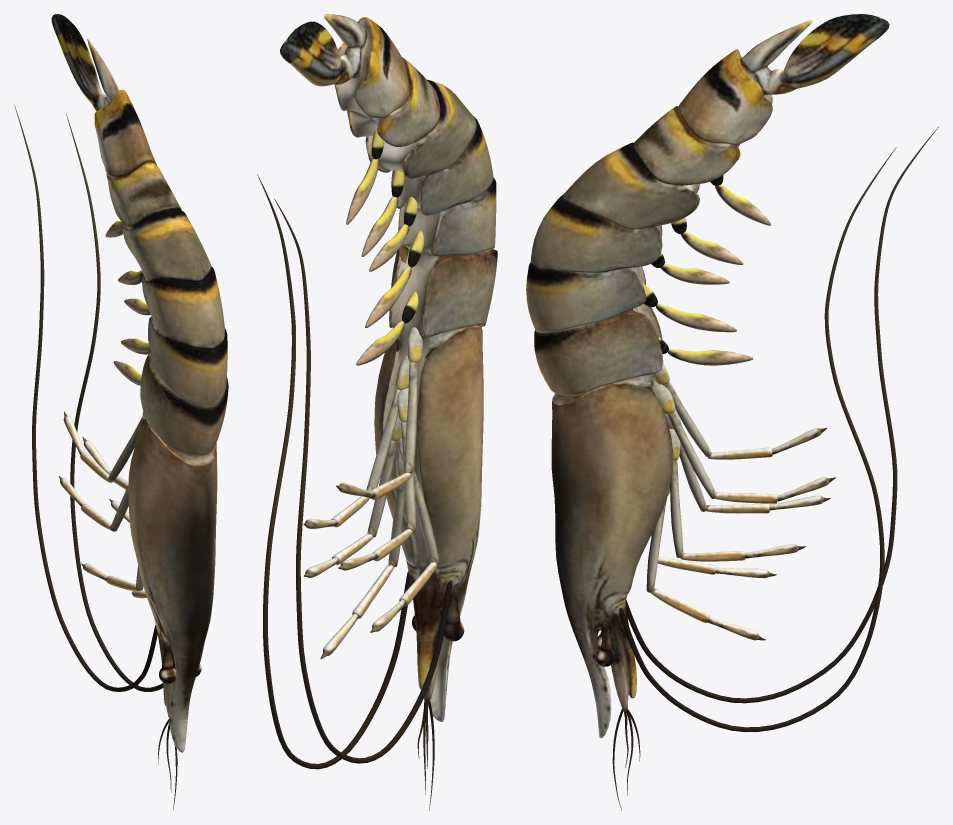
Rendered from shrimp.glb.
3 views of the same model, side by side, from view 1: azimuth 30°, elevation 25°; view 2: azimuth 150°, elevation 25°; view 3: azimuth 270°, elevation 25° (orthographic). The views are drawn at different scales.
Visible parts, largest first — view 1: shrimp; view 2: shrimp; view 3: shrimp.
Boxes of the visible parts, left/top/right/bottom form: shrimp: left=14, top=14, right=228, bottom=809; shrimp: left=257, top=14, right=497, bottom=810; shrimp: left=526, top=14, right=938, bottom=810.
Size of the model in its own units: 2.73 by 23.86 by 11.2.
1 material, 1 textured.
